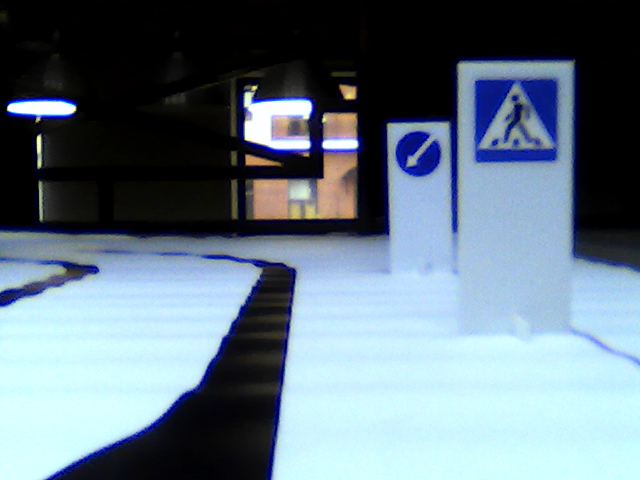pesh: (468, 73, 562, 164)
prep: (395, 132, 442, 177)
